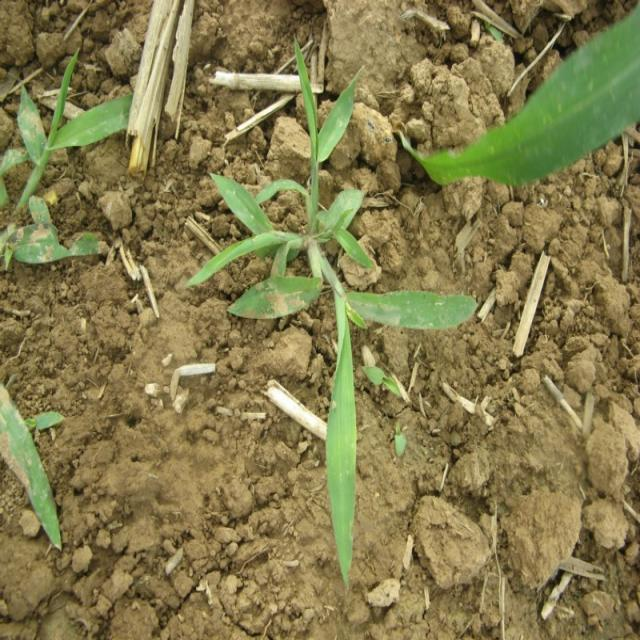bg: (188, 36, 476, 578)
